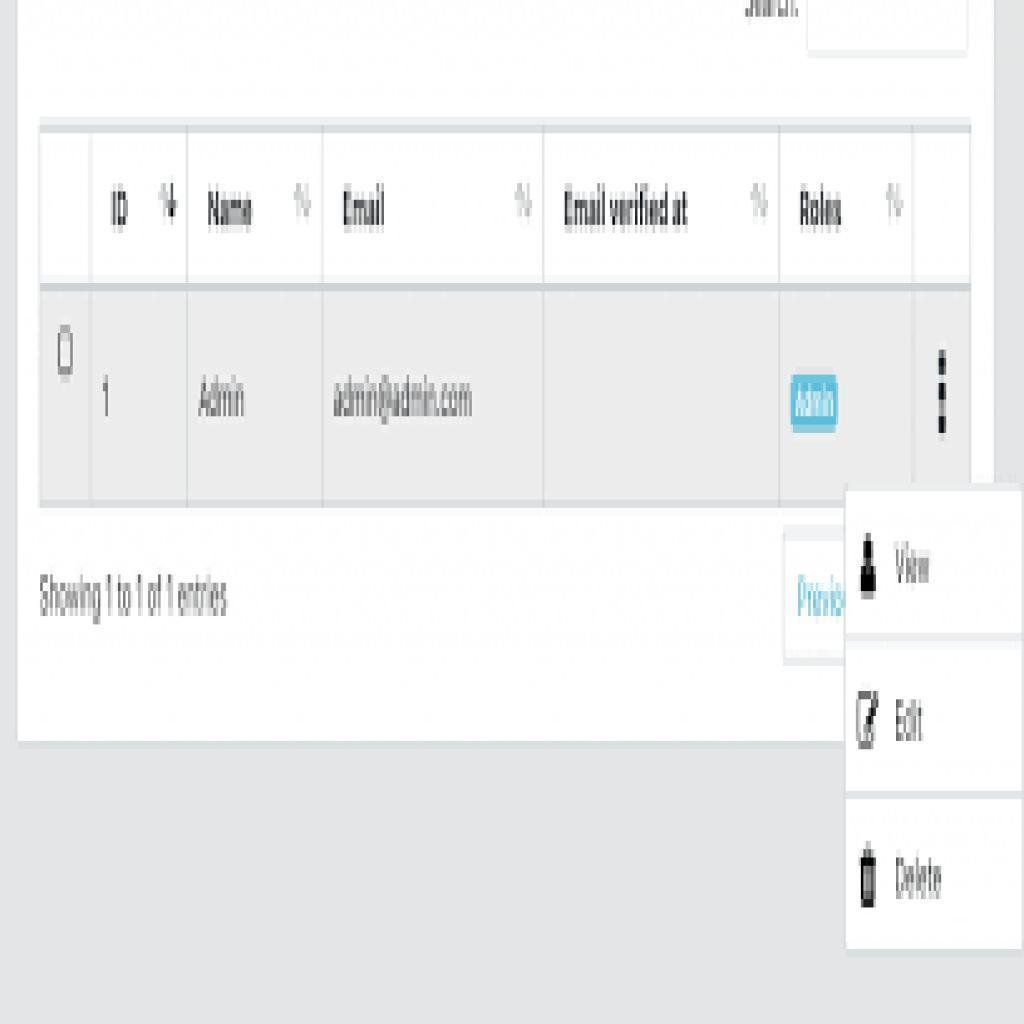button: (788, 372, 844, 435)
checkbox: (55, 323, 77, 381)
icon: (925, 348, 957, 445), (854, 838, 885, 924), (853, 688, 886, 760), (855, 532, 883, 610)
table: (38, 128, 971, 511)
